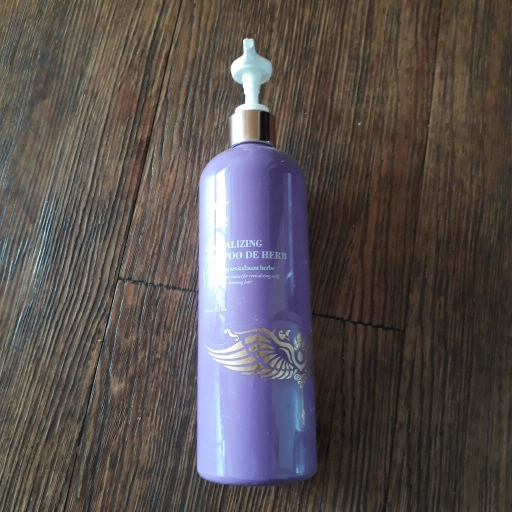Plastic_3: (185, 34, 322, 488)
